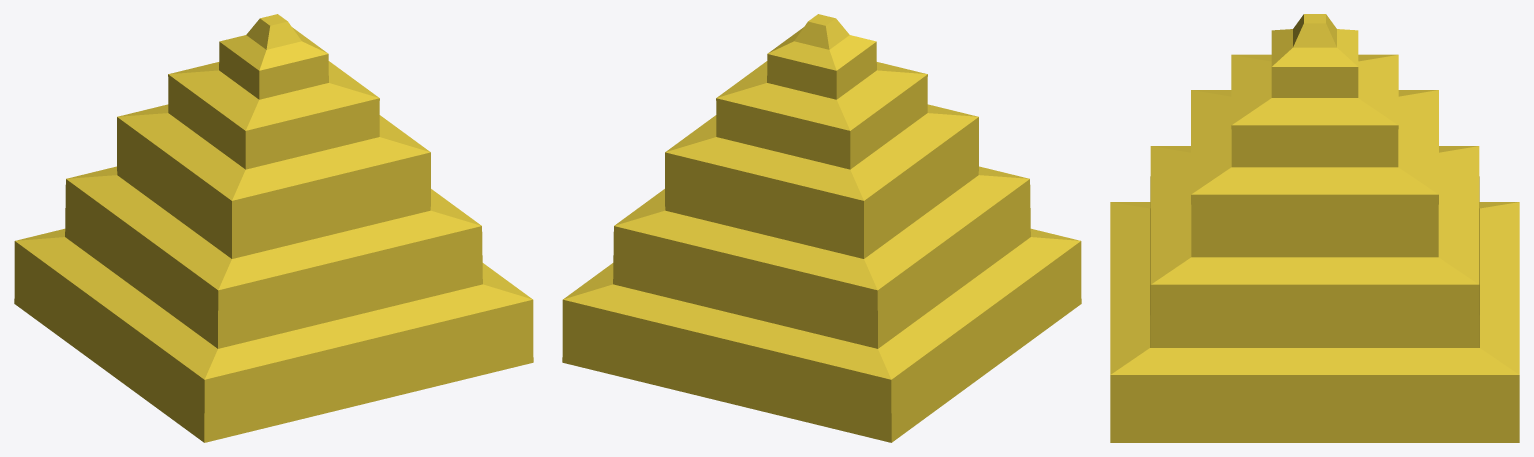
Rendered from Mesh_PyramidBlocky.glb.
3 renders of one model, left to right at view 1: azimuth 30°, elevation 25°; view 2: azimuth 150°, elevation 25°; view 3: azimuth 270°, elevation 25°, orthographic. The views are drawn at different scales.
Visible parts, largest first — view 1: Cube.065; view 2: Cube.065; view 3: Cube.065.
Boxes of the visible parts, bbox=[...] form: Cube.065: bbox=[14, 14, 533, 442]; Cube.065: bbox=[562, 14, 1081, 442]; Cube.065: bbox=[1110, 14, 1519, 442].
Size of the model in its own units: 9.43 by 8.58 by 9.43.
